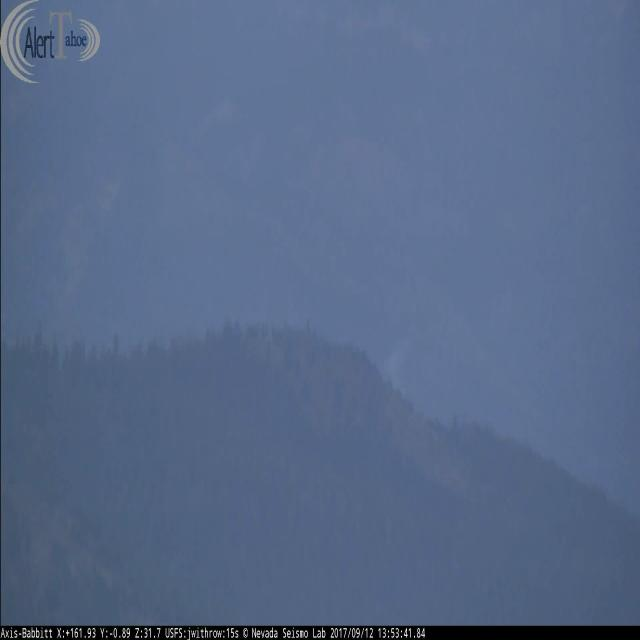smoke: (385, 342, 410, 402)
